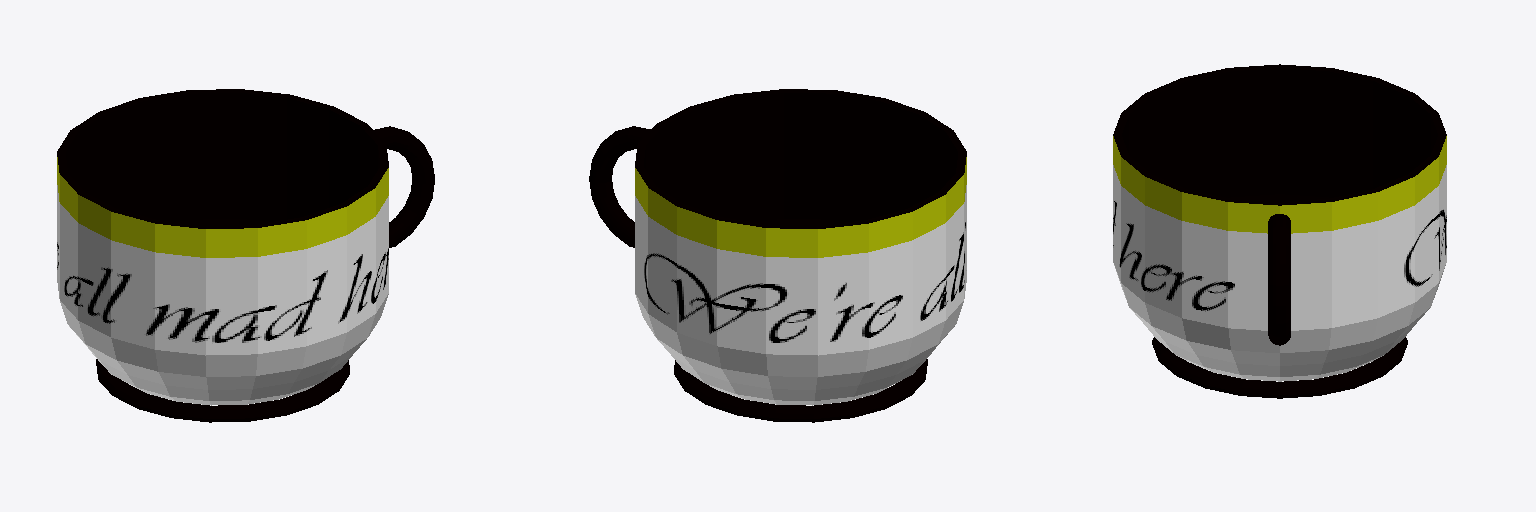
3 renders of one model, left to right at view 1: azimuth 30°, elevation 25°; view 2: azimuth 150°, elevation 25°; view 3: azimuth 270°, elevation 25°, orthographic.
Visible parts, largest first — view 1: pCylinder3; view 2: pCylinder3; view 3: pCylinder3.
Part boxes in pixels (left/top/right/bottom): pCylinder3: left=57, top=89, right=434, bottom=422; pCylinder3: left=589, top=89, right=966, bottom=422; pCylinder3: left=1113, top=64, right=1446, bottom=398.
Bounding box in the file's own units: 1.43 × 0.8096 × 1.17.
Materials: 1 (1 with a texture image).